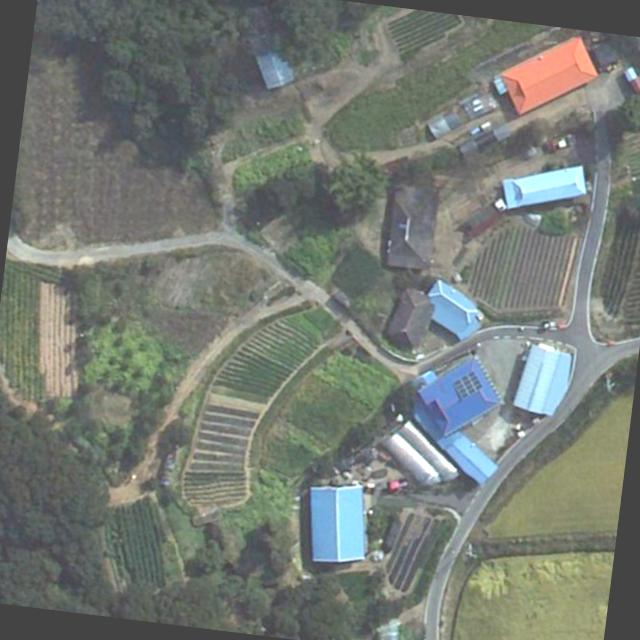solar: (448, 368, 484, 404)
